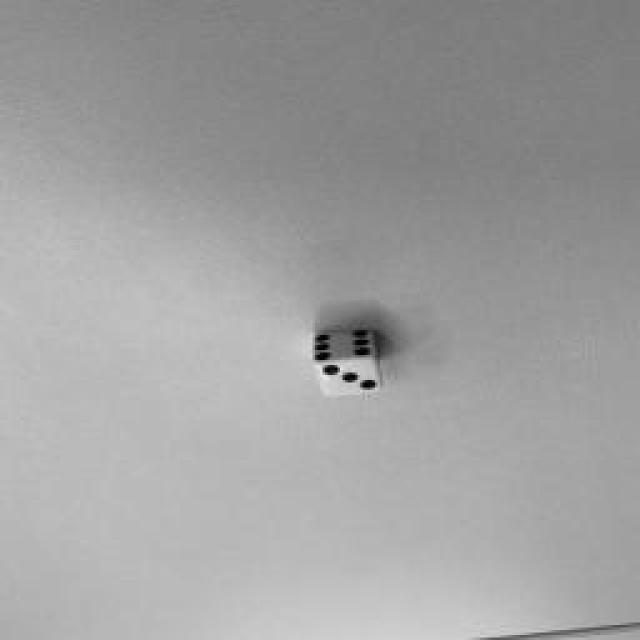dice_3: (312, 356, 382, 396)
